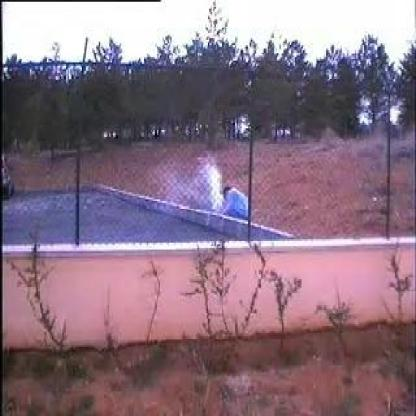-: (166, 154, 224, 208)
